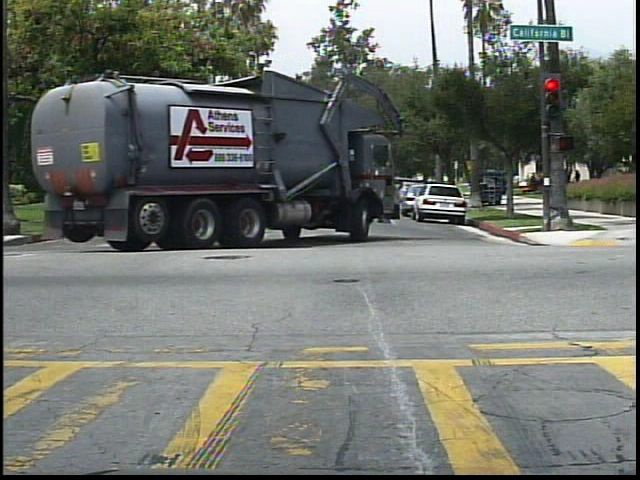person: (569, 165, 588, 195)
